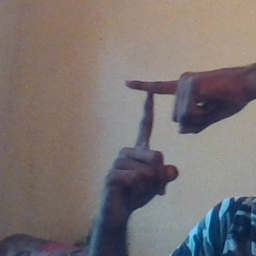T: (103, 62, 200, 167)
